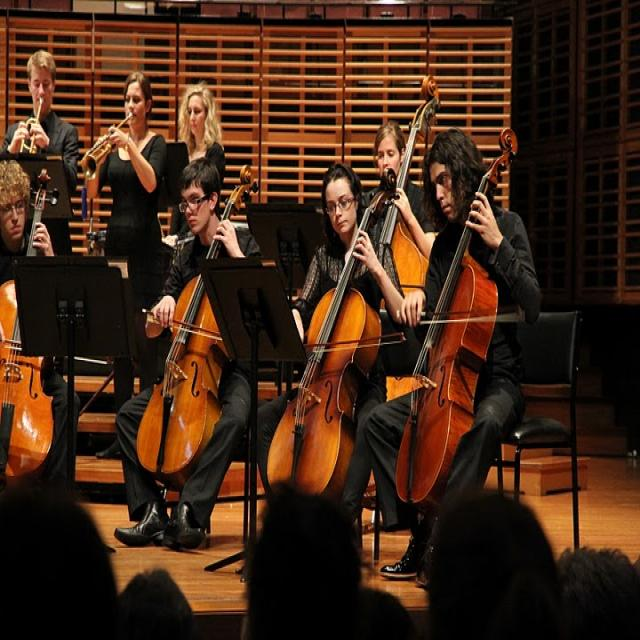cello: (394, 128, 520, 508), (266, 167, 400, 502), (137, 164, 261, 490), (0, 166, 59, 485)
